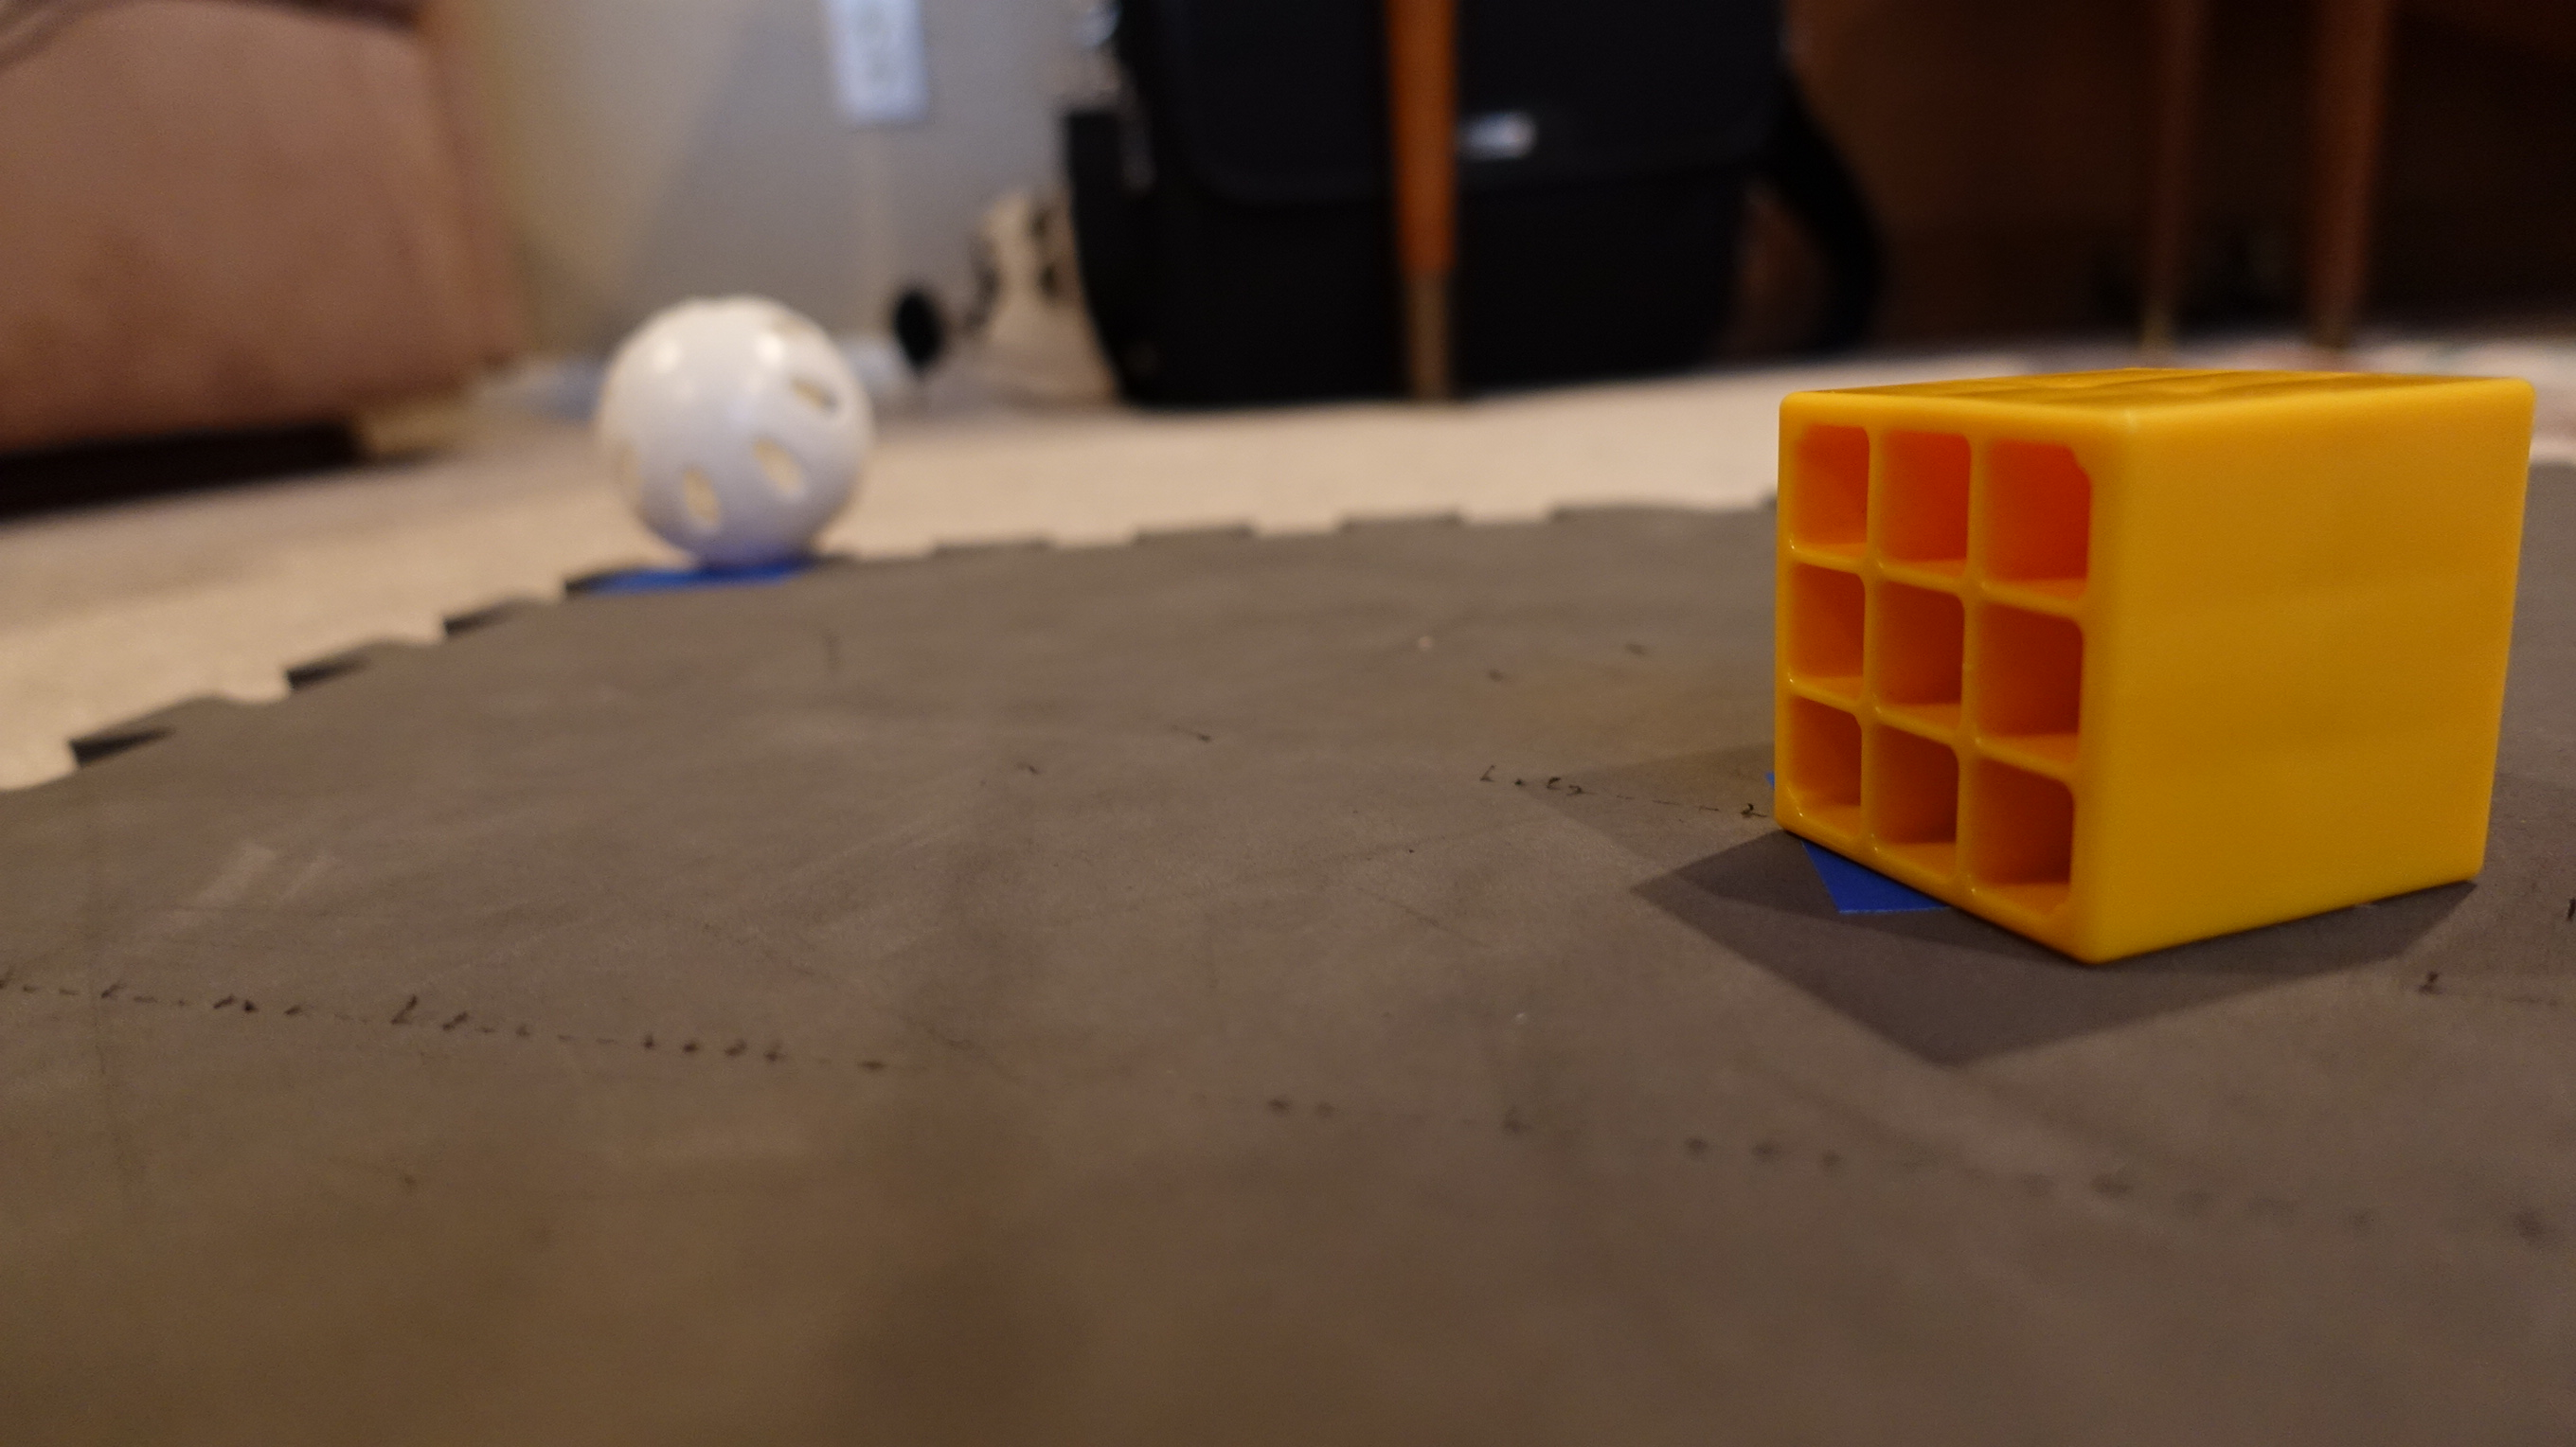gold: (1736, 333, 2537, 966)
silver: (587, 285, 874, 573)
